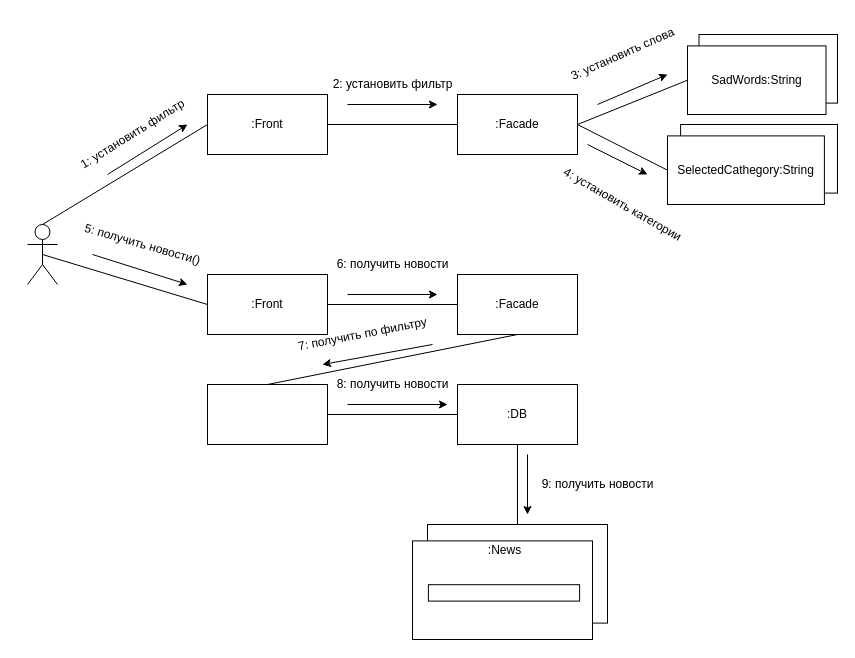
Image size: 855x658. Some labels were removed from this diagram. Here are the shapes that lost their labels. From the top down, the centre of each, then its label:
point (42, 254): Читатель
point (267, 414): :NewsController
point (503, 592): :Cathegory
